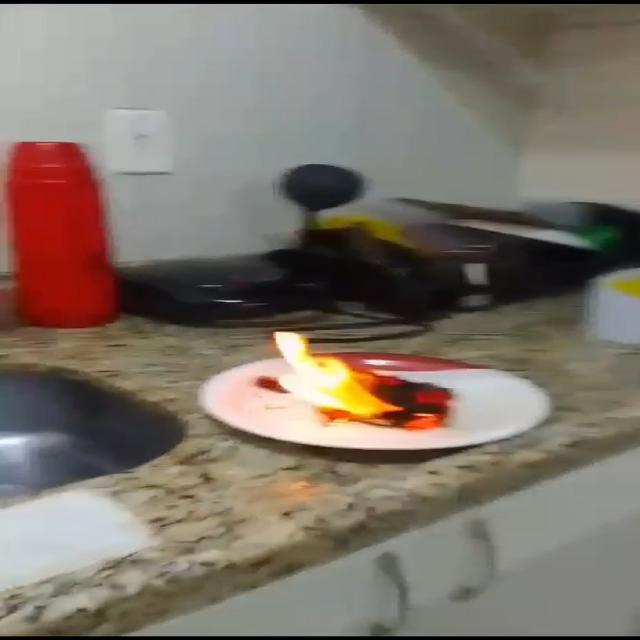fogo-ypXI: (268, 330, 456, 431)
